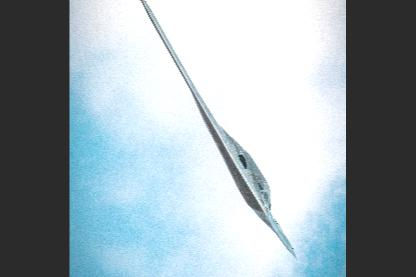B1: (135, 0, 298, 261)
